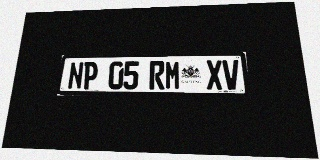0: (108, 61, 124, 89)
5: (123, 61, 139, 90)
M: (165, 61, 181, 90)
N: (67, 62, 84, 89)
P: (82, 62, 98, 89)
R: (149, 61, 165, 90)
V: (222, 60, 240, 90)
X: (206, 60, 223, 90)
